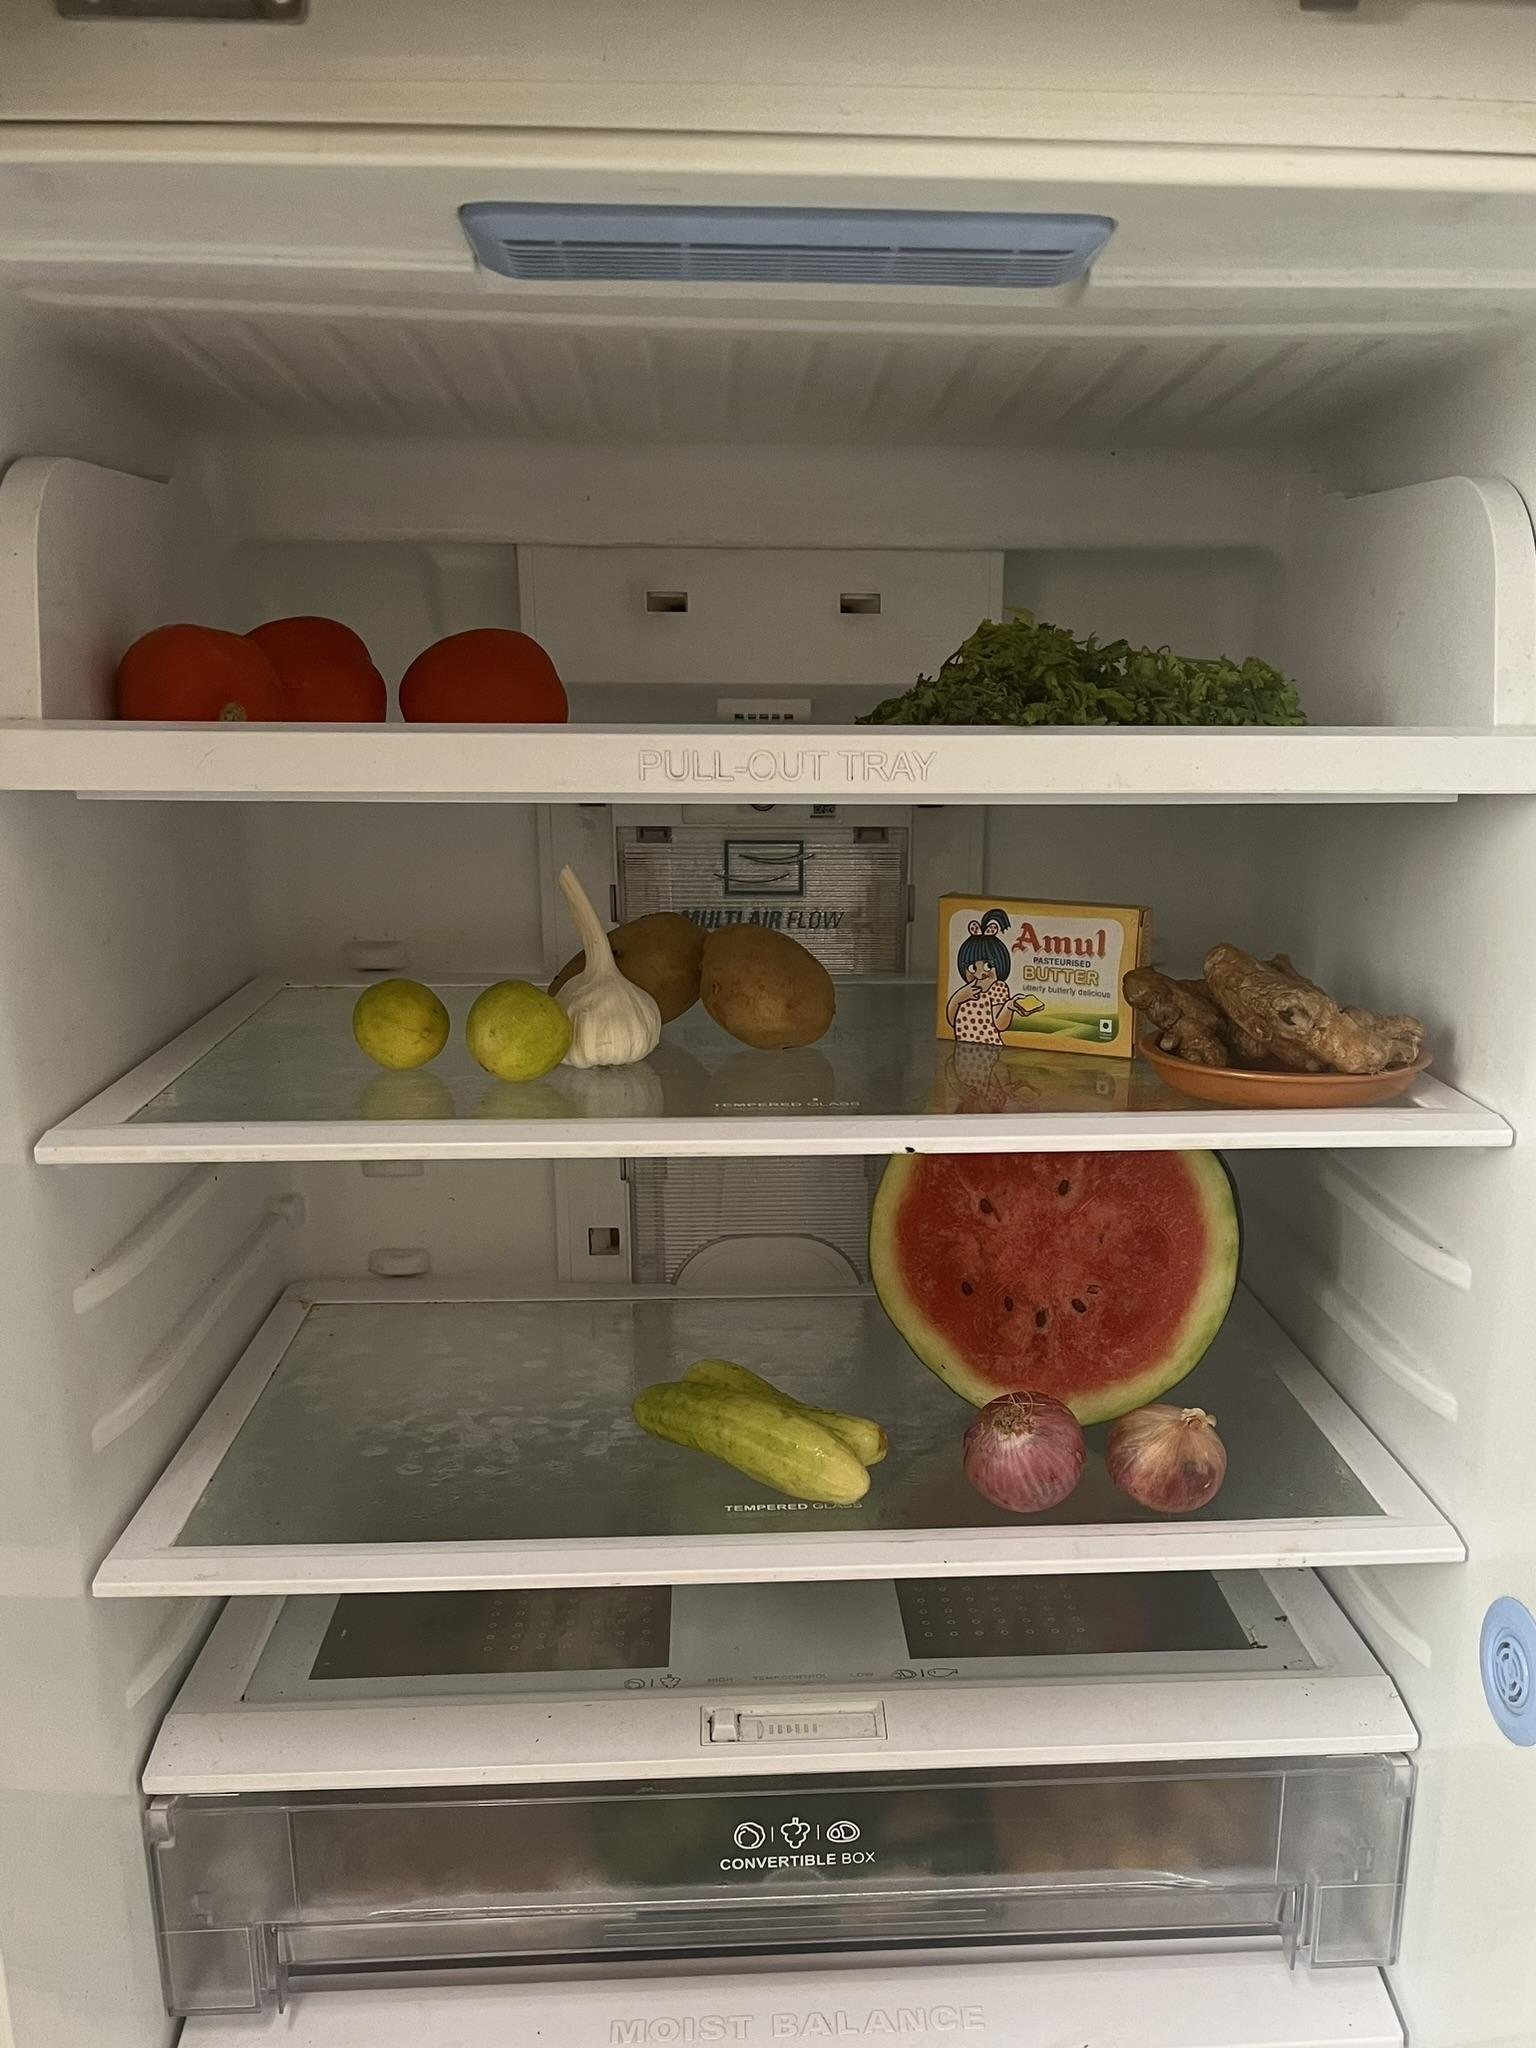butter: (937, 877, 1133, 1063)
coriander: (837, 613, 1313, 724)
cucumber: (629, 1356, 904, 1500)
garlic: (529, 856, 684, 1071)
ginger: (1123, 937, 1450, 1077)
lemon: (344, 966, 457, 1074), (470, 963, 560, 1074)
onion: (1110, 1387, 1241, 1517), (963, 1390, 1094, 1506)
potato: (547, 903, 857, 1043)
tomato: (110, 593, 397, 727), (394, 619, 576, 724)
watermelon: (876, 1150, 1244, 1413)
